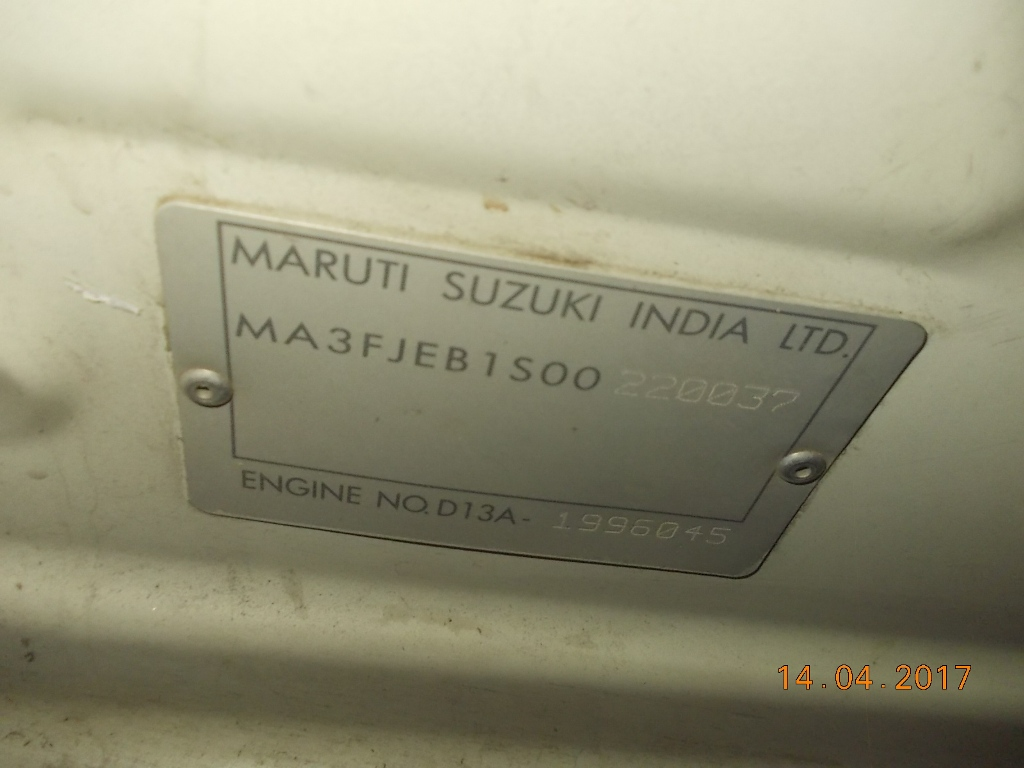Scratch_or_spot: (571, 433, 605, 449)
